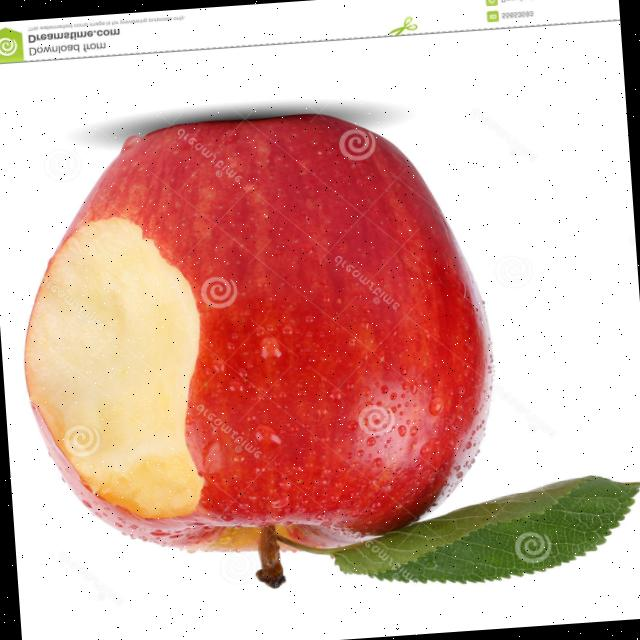Apel: (6, 101, 508, 590)
